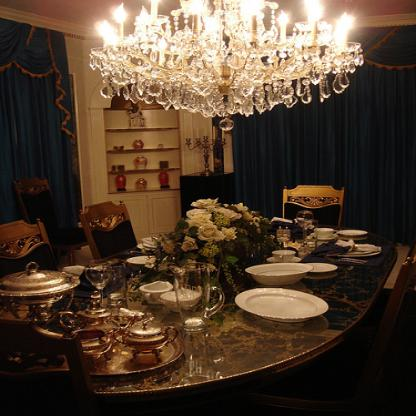chair: (228, 225, 415, 415), (0, 316, 91, 415), (10, 176, 90, 267), (0, 218, 61, 275), (81, 200, 140, 258), (282, 183, 346, 231)
diningtable: (0, 215, 395, 415)
